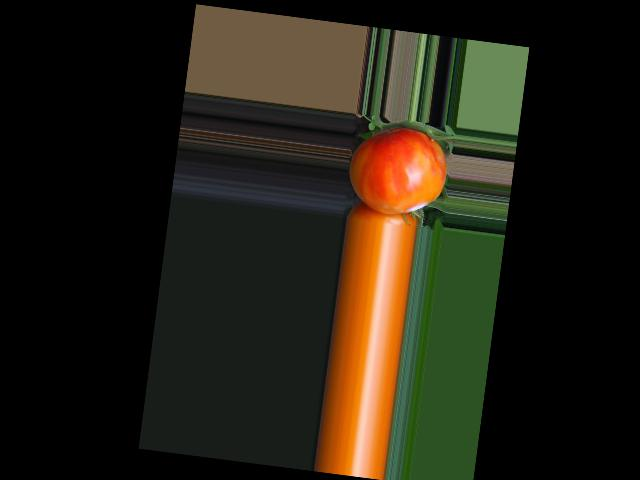tomato: (344, 122, 451, 220)
